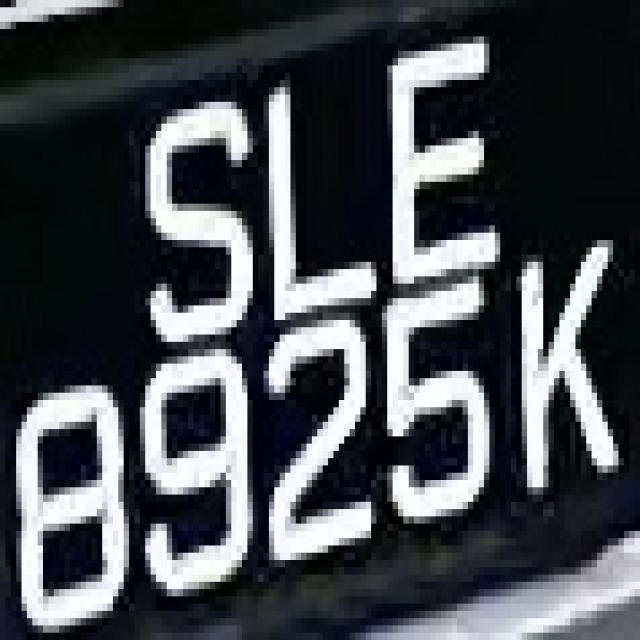2: (264, 306, 392, 574)
5: (387, 269, 495, 524)
8: (11, 364, 134, 626)
9: (129, 334, 264, 611)
E: (376, 51, 516, 291)
K: (495, 232, 624, 524)
L: (248, 80, 392, 327)
S: (124, 80, 264, 356)
